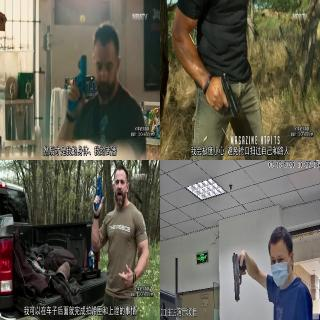gun: (65, 53, 88, 119), (209, 73, 235, 127), (230, 249, 246, 301), (89, 176, 105, 220)
